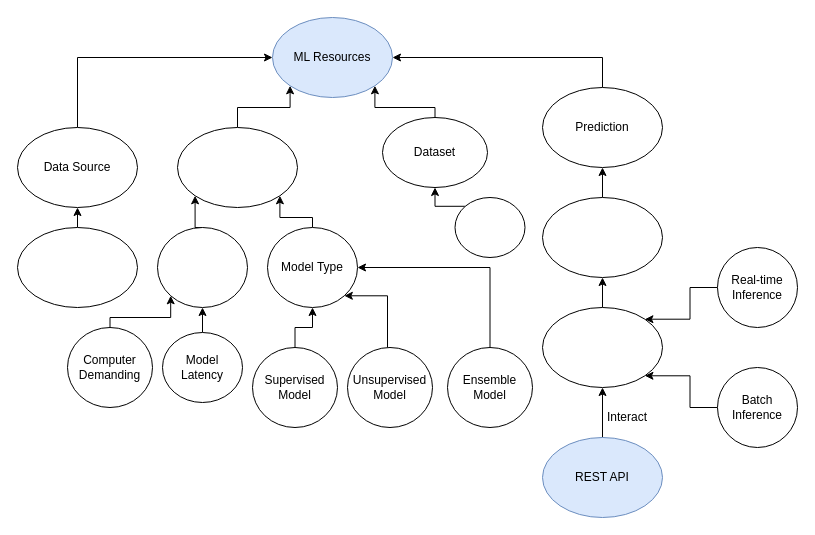
Image size: 815x535. Some labels were removed from this diagram. The shapes that lost their labels are listed below. From the top down, each one's box as (x1, y1, x2, y2) in pixels, then its label:
(176, 126, 298, 208): ML Model
(454, 196, 525, 258): Instances
(542, 196, 662, 278): Inference
(16, 226, 138, 308): Data Reference
(156, 226, 248, 308): Model Requirements
(542, 306, 662, 388): Inference Endpoint
